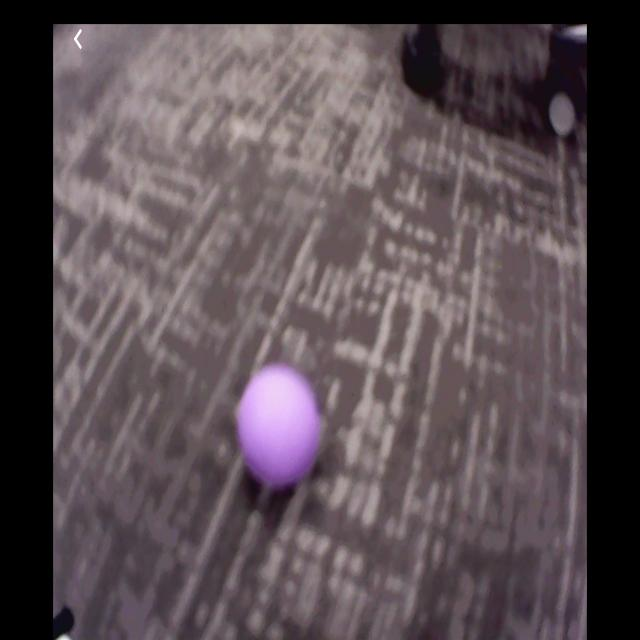ball: (239, 363, 321, 483)
